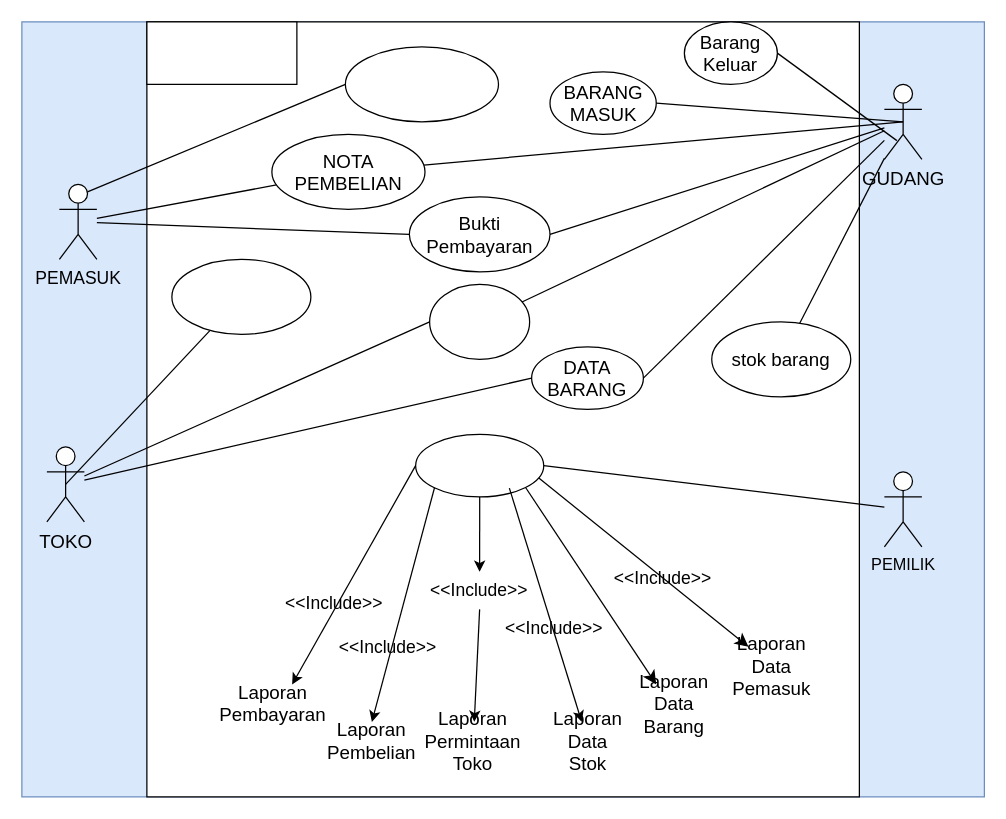
The diagram is 1006 pixels wide and 819 high, and some of its shapes have lost their labels. Here are the shapes that lost their labels. From the top down, the centre of each, then its label:
[221,52]: USE CASE TOKO
[421,84]: data pemasuk
[241,296]: data stok
[479,321]: order permintaan
[479,465]: Membuat Laporan
